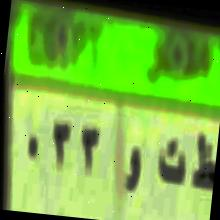0: (17, 128, 45, 172)
3: (48, 110, 75, 177), (73, 122, 104, 176)
Thaa: (189, 126, 218, 196)
taa: (152, 130, 190, 189)
waw: (122, 142, 144, 197)
